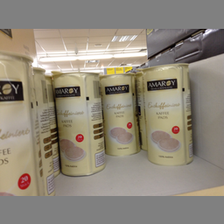coffee: (51, 71, 107, 176), (141, 61, 195, 164), (100, 72, 139, 156)
